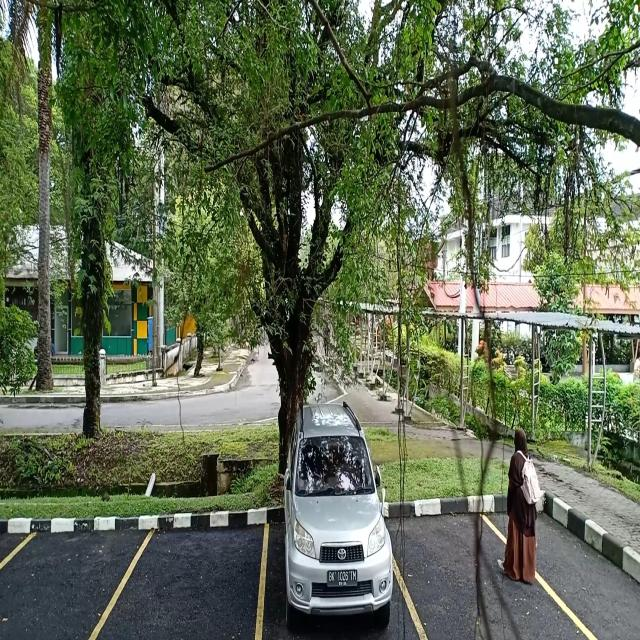empty: (404, 491, 554, 640), (117, 506, 264, 640), (0, 510, 120, 640)
occupied: (262, 490, 409, 640), (579, 49, 639, 125)
